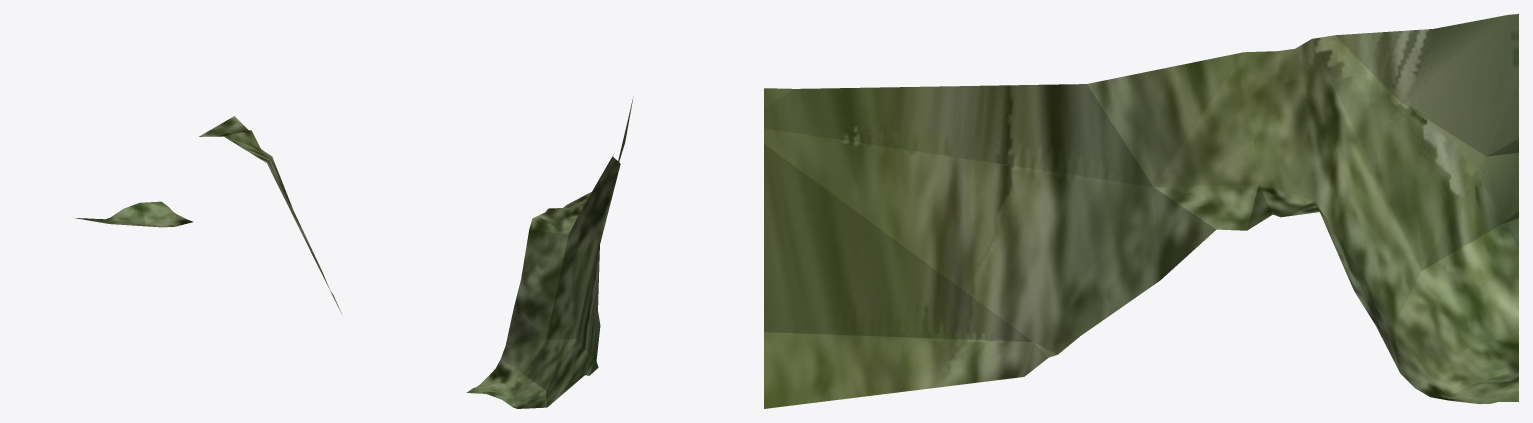
3 views of the same model, side by side, from view 1: azimuth 30°, elevation 25°; view 2: azimuth 150°, elevation 25°; view 3: azimuth 270°, elevation 25° (orthographic). The views are drawn at different scales.
Size of the model in its own units: 0.91 by 1.33 by 2.95.
1 material, 1 textured.
